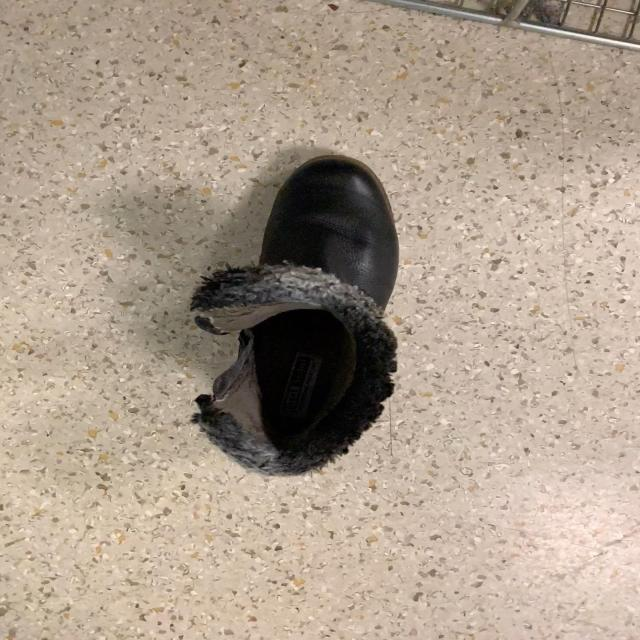shoe: (191, 160, 400, 475)
